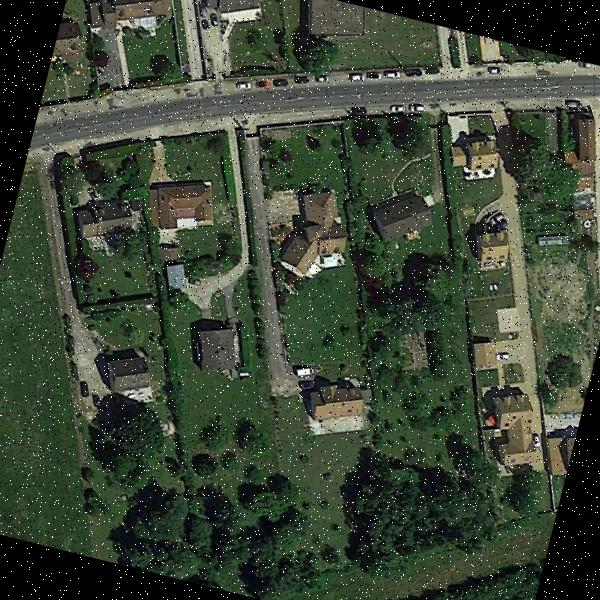Buildings: (281, 189, 354, 280), (82, 0, 171, 46), (295, 0, 367, 52), (152, 174, 216, 232), (490, 392, 538, 462), (305, 376, 364, 429), (448, 124, 502, 178), (375, 191, 436, 238), (559, 115, 600, 173), (193, 326, 242, 370), (188, 0, 259, 30), (80, 192, 128, 228), (474, 228, 513, 264), (110, 356, 152, 388), (52, 20, 84, 58)
